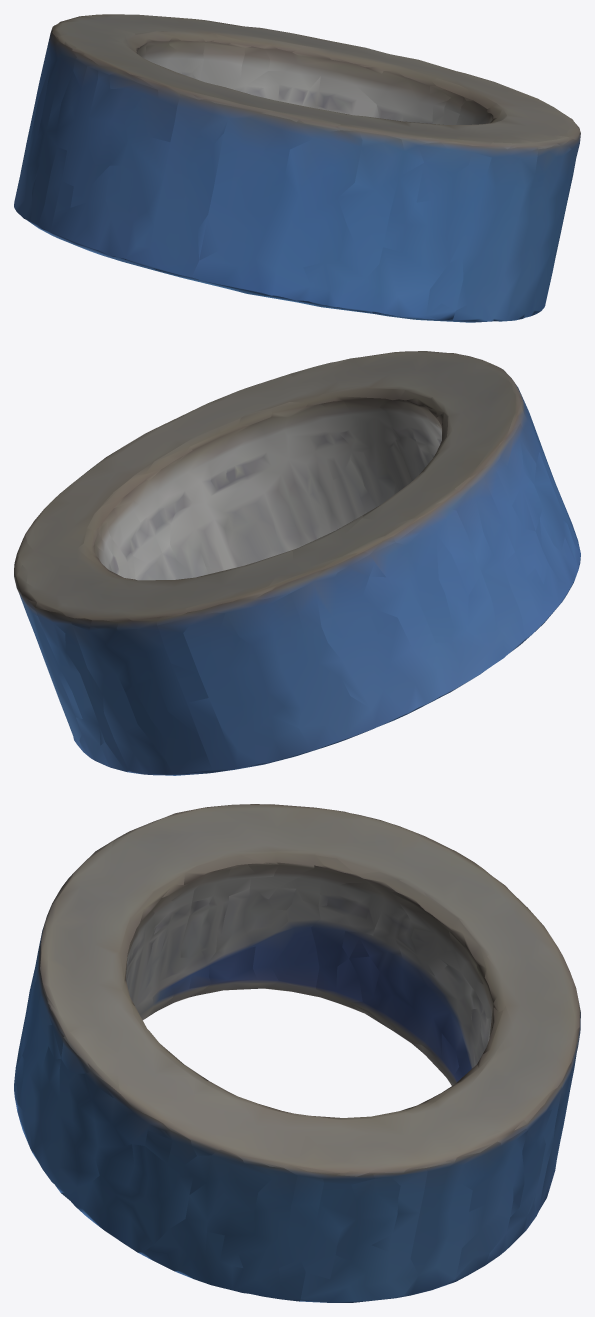
File: 0012_mask_013_blue_tape.glb
3 renders of one model, top to bottom at view 1: azimuth 30°, elevation 25°; view 2: azimuth 150°, elevation 25°; view 3: azimuth 270°, elevation 25°, orthographic.
Visible parts, largest first — view 1: mask_013_object; view 2: mask_013_object; view 3: mask_013_object.
Boxes of the visible parts, bbox=[...] form: mask_013_object: bbox=[14, 14, 580, 322]; mask_013_object: bbox=[14, 351, 580, 775]; mask_013_object: bbox=[14, 804, 580, 1302].
Bounding box in the file's own units: 0.1596 × 0.0986 × 0.1583.
